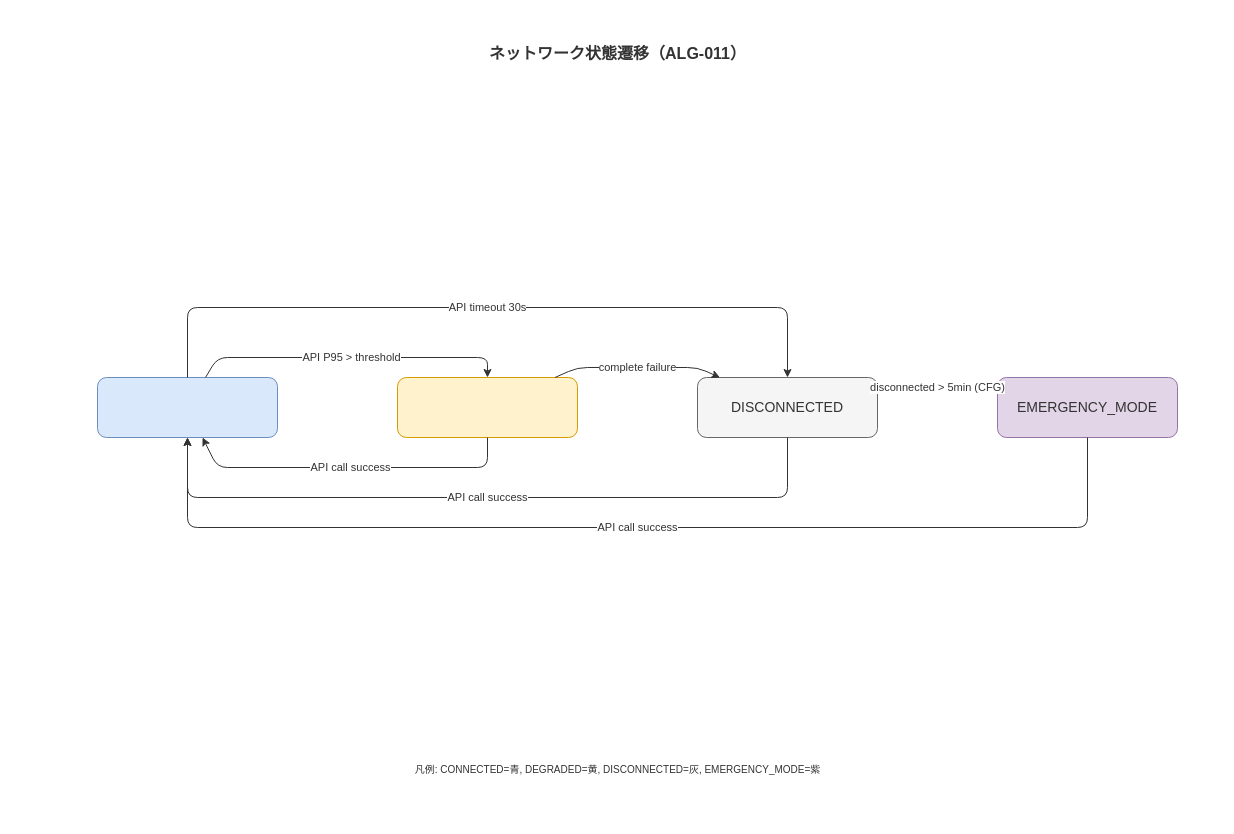
The diagram is 1234 pixels wide and 834 high, and some of its shapes have lost their labels. Each missing label, with the box of its shape:
CONNECTED: (96, 376, 278, 438)
DEGRADED: (396, 376, 578, 438)
